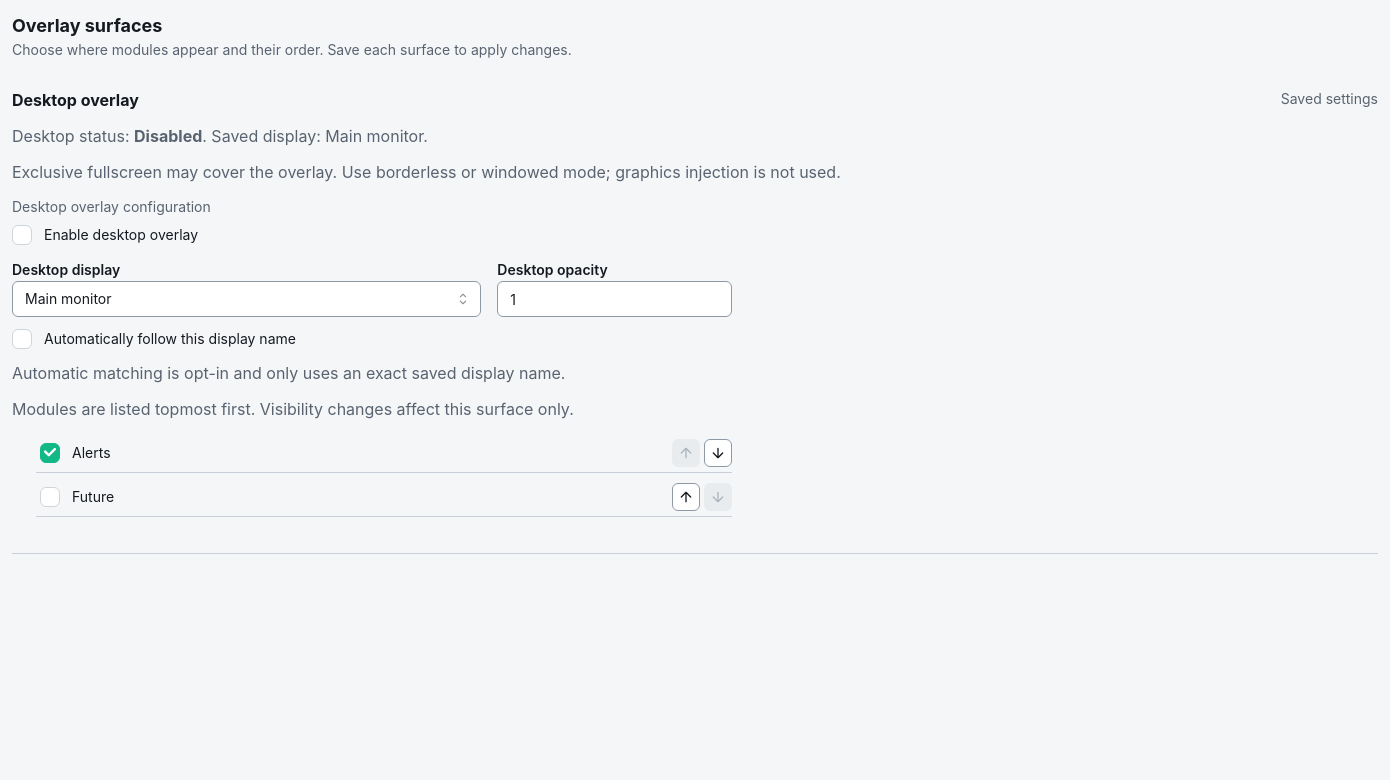
Test case: shows Save and Revert only for a changed surface and returns keyboard focus to its heading
The image size is (1390, 780).
expect the button "Save Desktop overlay" is not shown: met
expect the button "Revert Desktop overlay" is not shown: met
Click the checkbox labelled "Enable desktop overlay": (22, 235) [12,225,32,245]
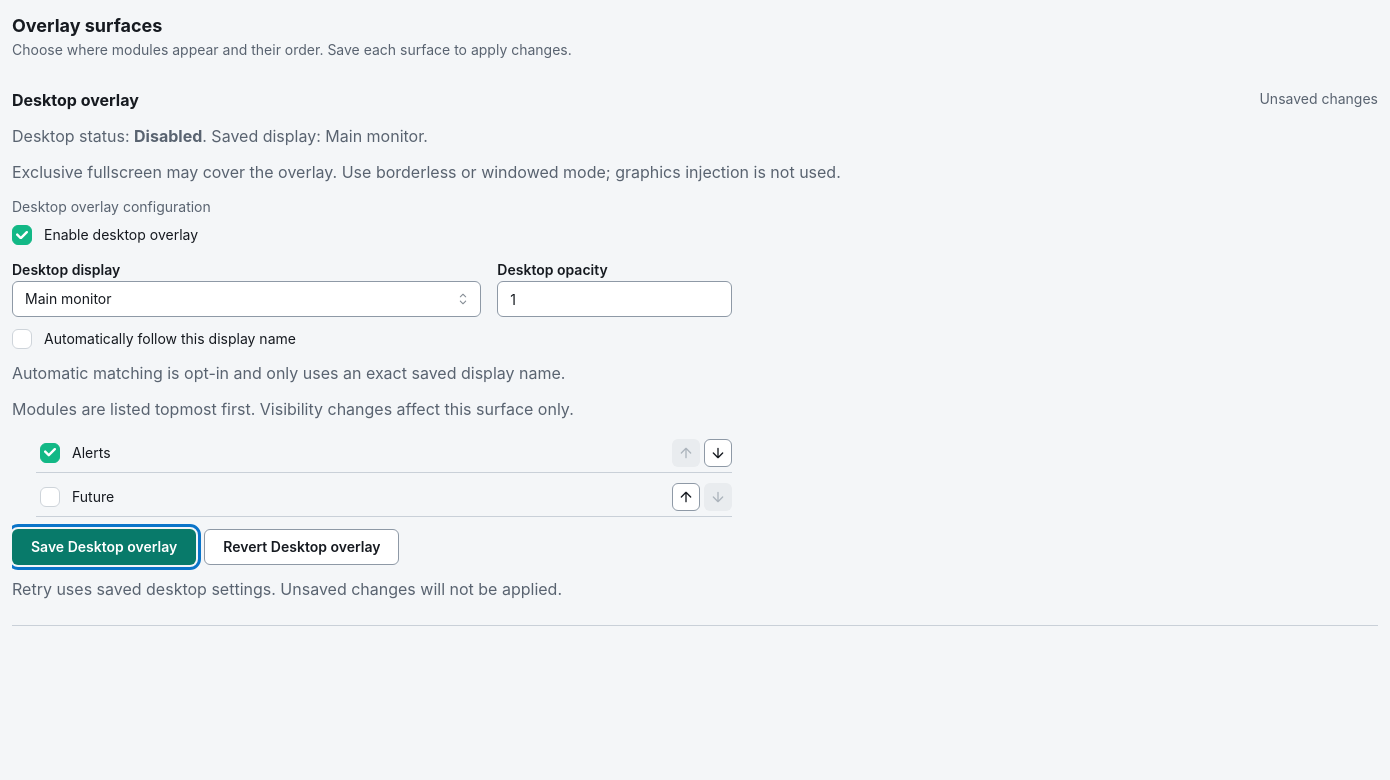
expect the button "Save Desktop overlay" is enabled: met, box [12,529,196,565]
expect the button "Revert Desktop overlay" is enabled: met, box [204,529,399,565]
Press Enter
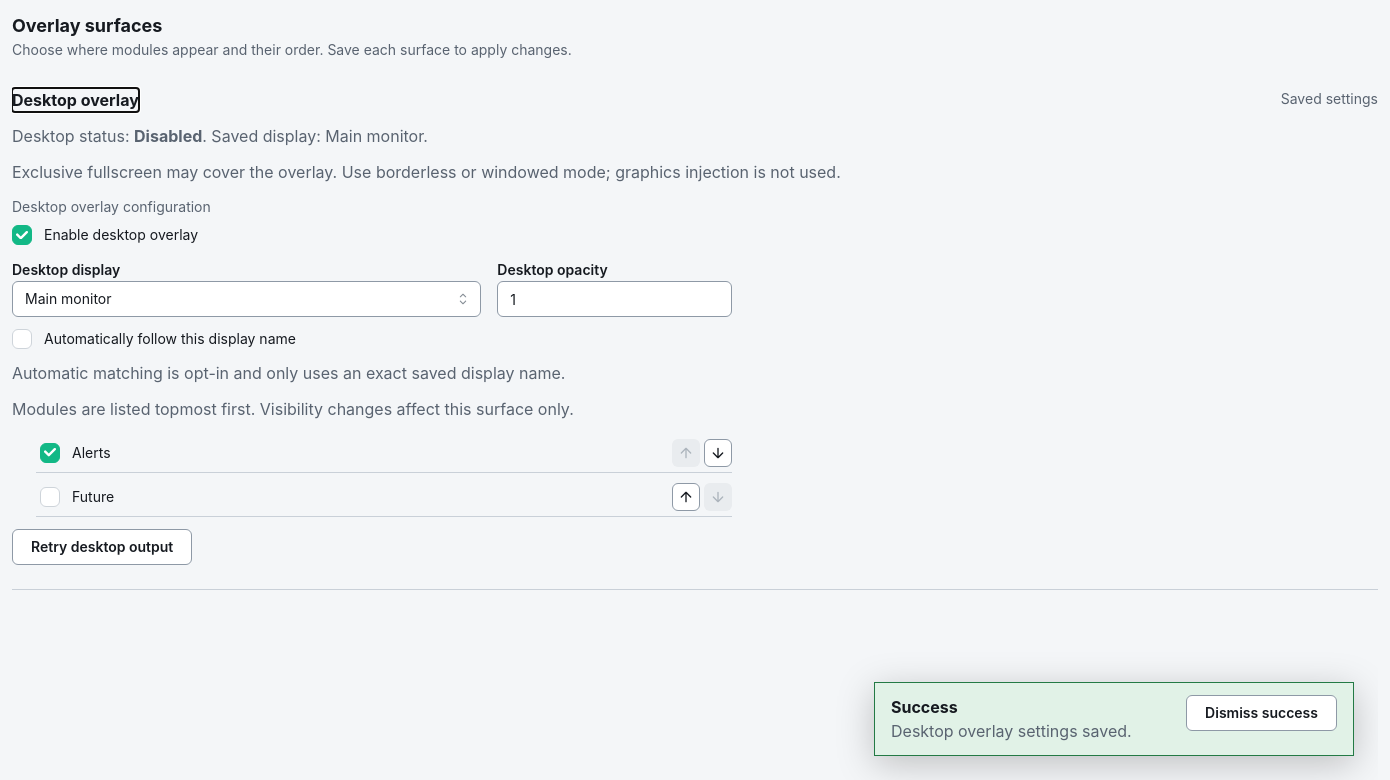
expect the button "Save Desktop overlay" is gone: met
Click the checkbox labelled "Enable desktop overlay": (22, 235) [12,225,32,245]
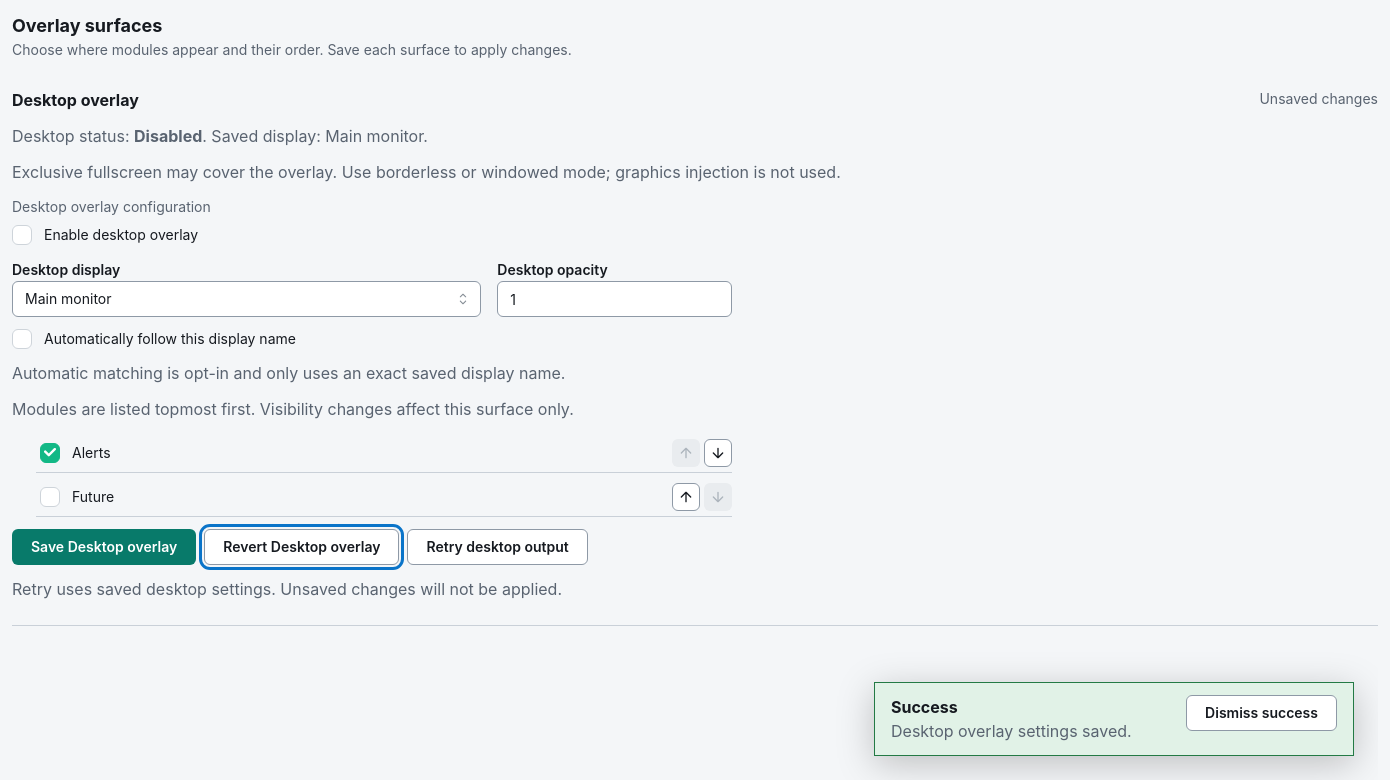
Press Enter
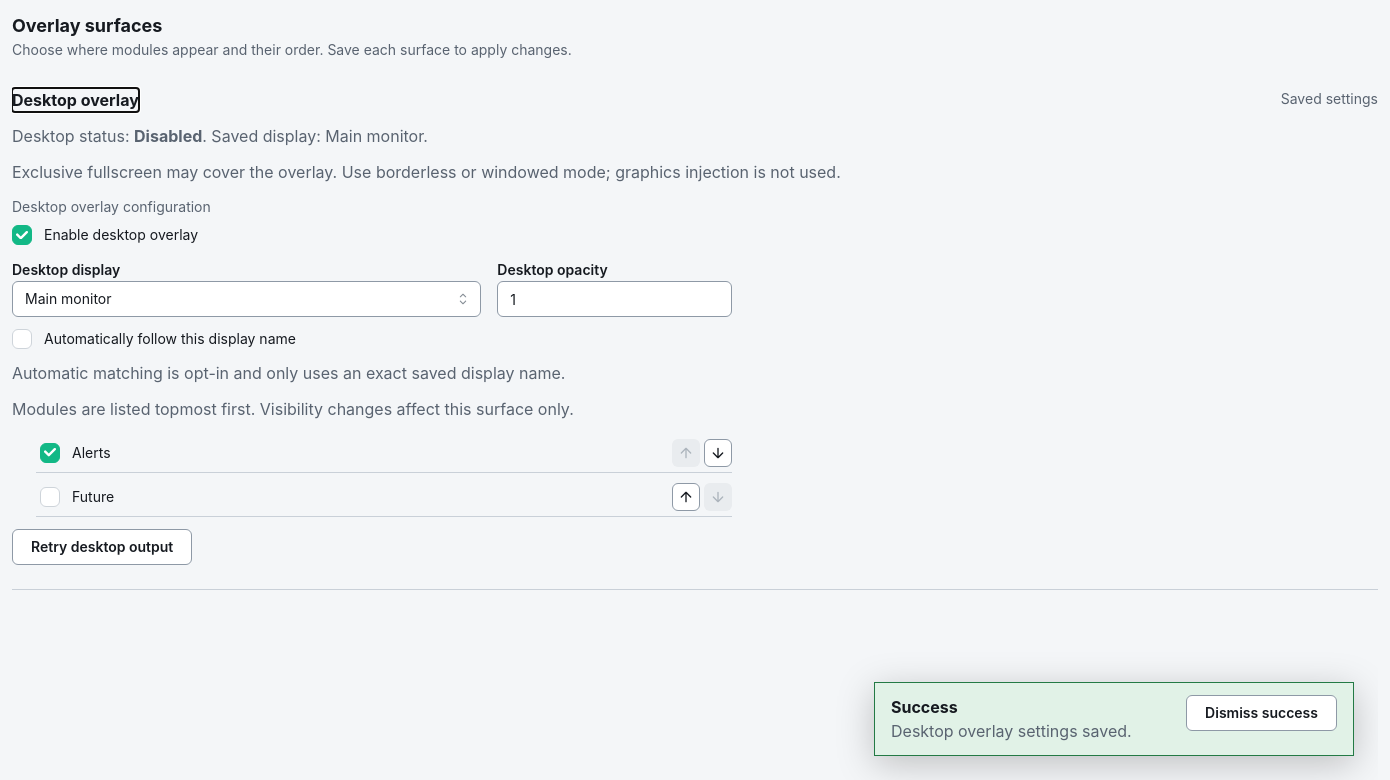
expect the button "Revert Desktop overlay" is gone: met
